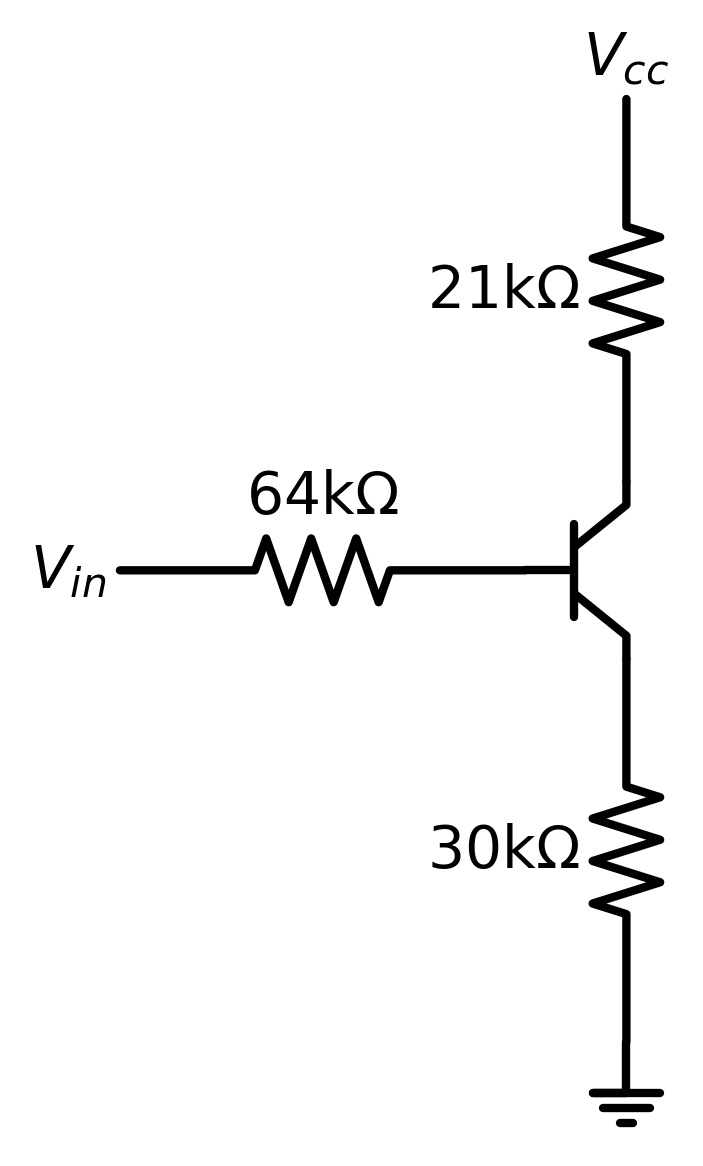bjt: (525, 455, 667, 671)
ground: (578, 1072, 680, 1145)
resistor: (578, 204, 684, 383), (583, 762, 676, 946), (243, 530, 396, 619)
